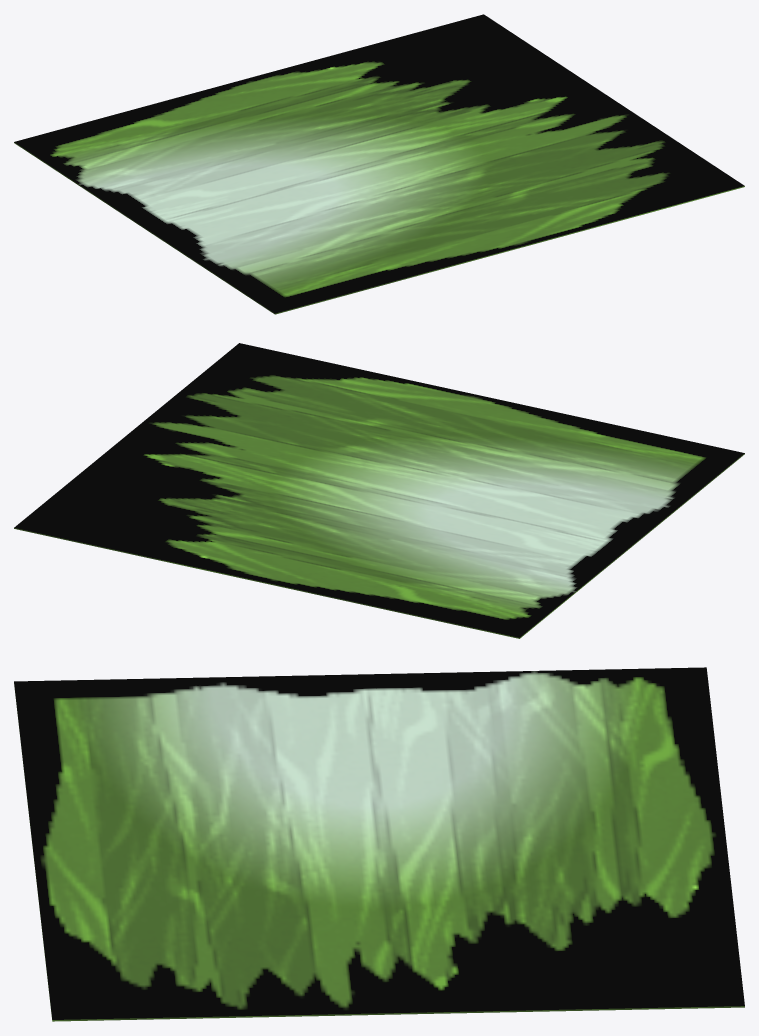
The model's file is Vegetable.fbx.
3 renders of one model, top to bottom at view 1: azimuth 30°, elevation 25°; view 2: azimuth 150°, elevation 25°; view 3: azimuth 270°, elevation 25°, orthographic. The views are drawn at different scales.
Parts seen in each view (by area): view 1: Vegetable; view 2: Vegetable; view 3: Vegetable.
Boxes of the visible parts, x1,y1,x2,y2 form: Vegetable: (14,14,744,314); Vegetable: (14,343,744,638); Vegetable: (14,667,744,1021).
Bounding box in the file's own units: 147 × 0.287 × 129.
